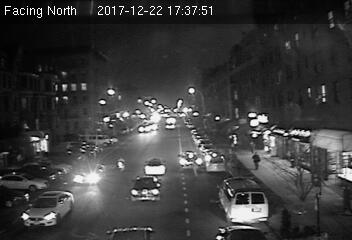car: (18, 189, 74, 227), (129, 175, 162, 202), (72, 162, 107, 186), (177, 150, 202, 169), (205, 154, 226, 174), (143, 158, 167, 175)
pedestrian: (251, 151, 261, 172)
police: (216, 175, 270, 225)
